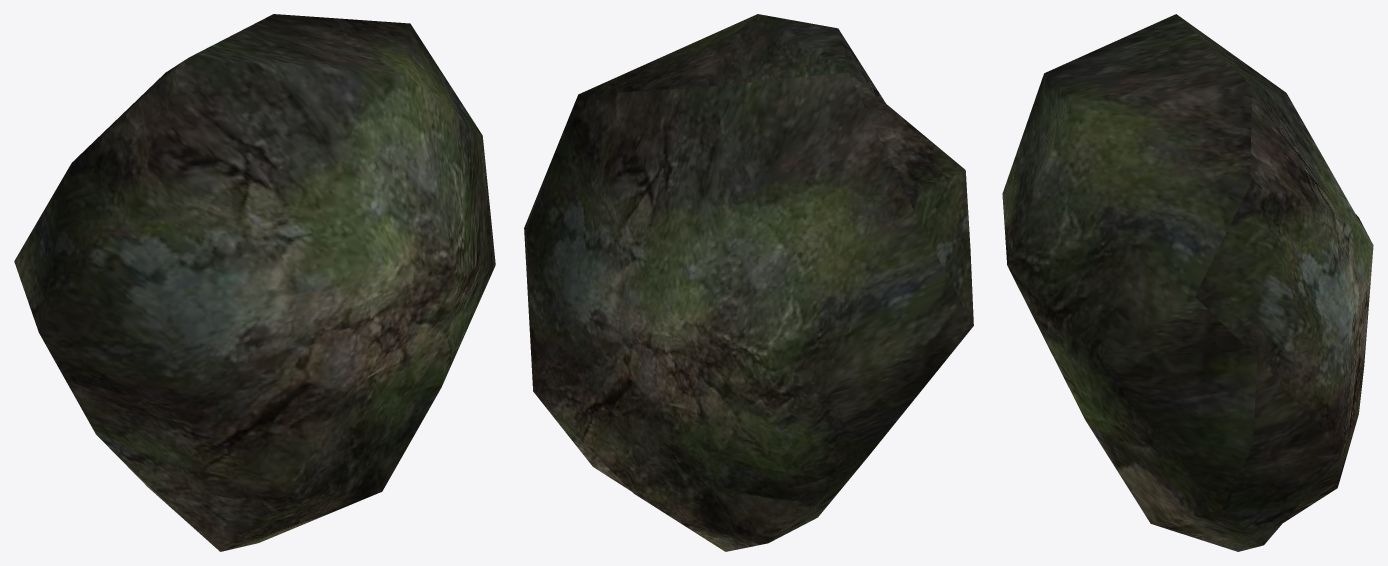
The picture shows the model from 3 angles, left to right: view 1: azimuth 30°, elevation 25°; view 2: azimuth 150°, elevation 25°; view 3: azimuth 270°, elevation 25°; orthographic projection. The views are drawn at different scales.
Visible parts, largest first — view 1: model_object23; view 2: model_object23; view 3: model_object23.
Boxes of the visible parts, x1=… form: model_object23: x1=14, y1=14, x2=495, y2=551; model_object23: x1=524, y1=14, x2=973, y2=551; model_object23: x1=1002, y1=14, x2=1373, y2=551.
Size of the model in its own units: 2.75 by 3.04 by 2.08.
Materials: 1 (1 with a texture image).
